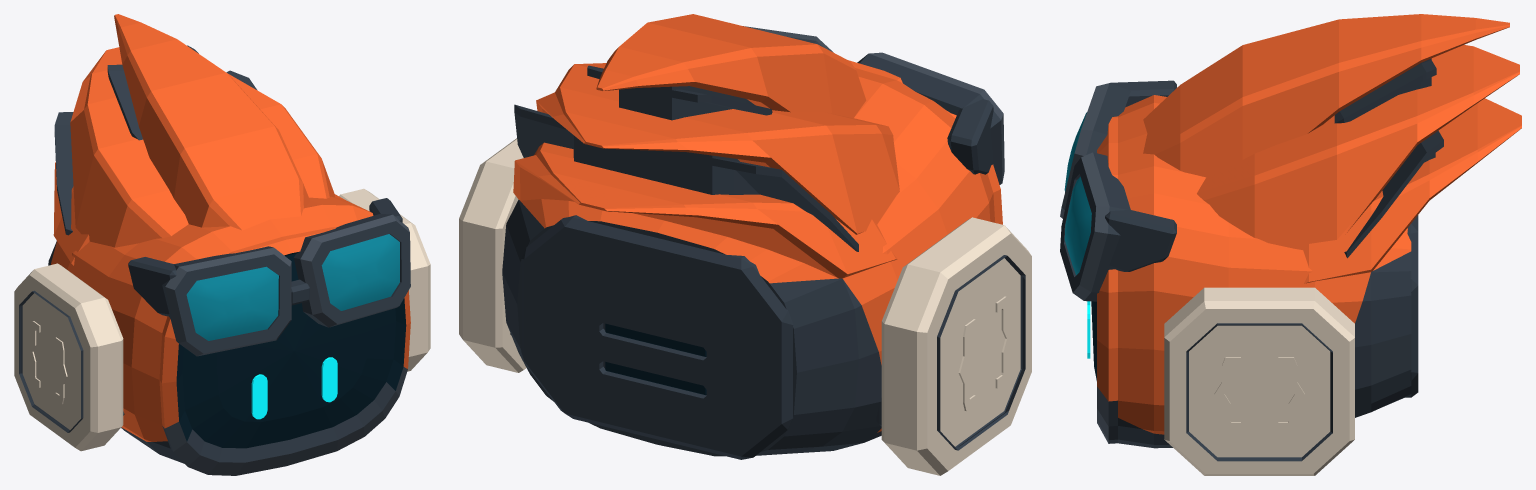
The model's file is copilot_developer_v01.glb.
The picture shows the model from 3 angles, left to right: view 1: azimuth 30°, elevation 25°; view 2: azimuth 150°, elevation 25°; view 3: azimuth 270°, elevation 25°; orthographic projection. The views are drawn at different scales.
Parts seen in each view (by area): view 1: developer_model; view 2: developer_model; view 3: developer_model.
Part boxes in pixels (bbox=[...]): developer_model: bbox=[14, 14, 430, 475]; developer_model: bbox=[459, 14, 1031, 475]; developer_model: bbox=[1060, 14, 1521, 475].
Bounding box in the file's own units: 2.38 × 2.13 × 2.3.
2 materials, 2 textured.
